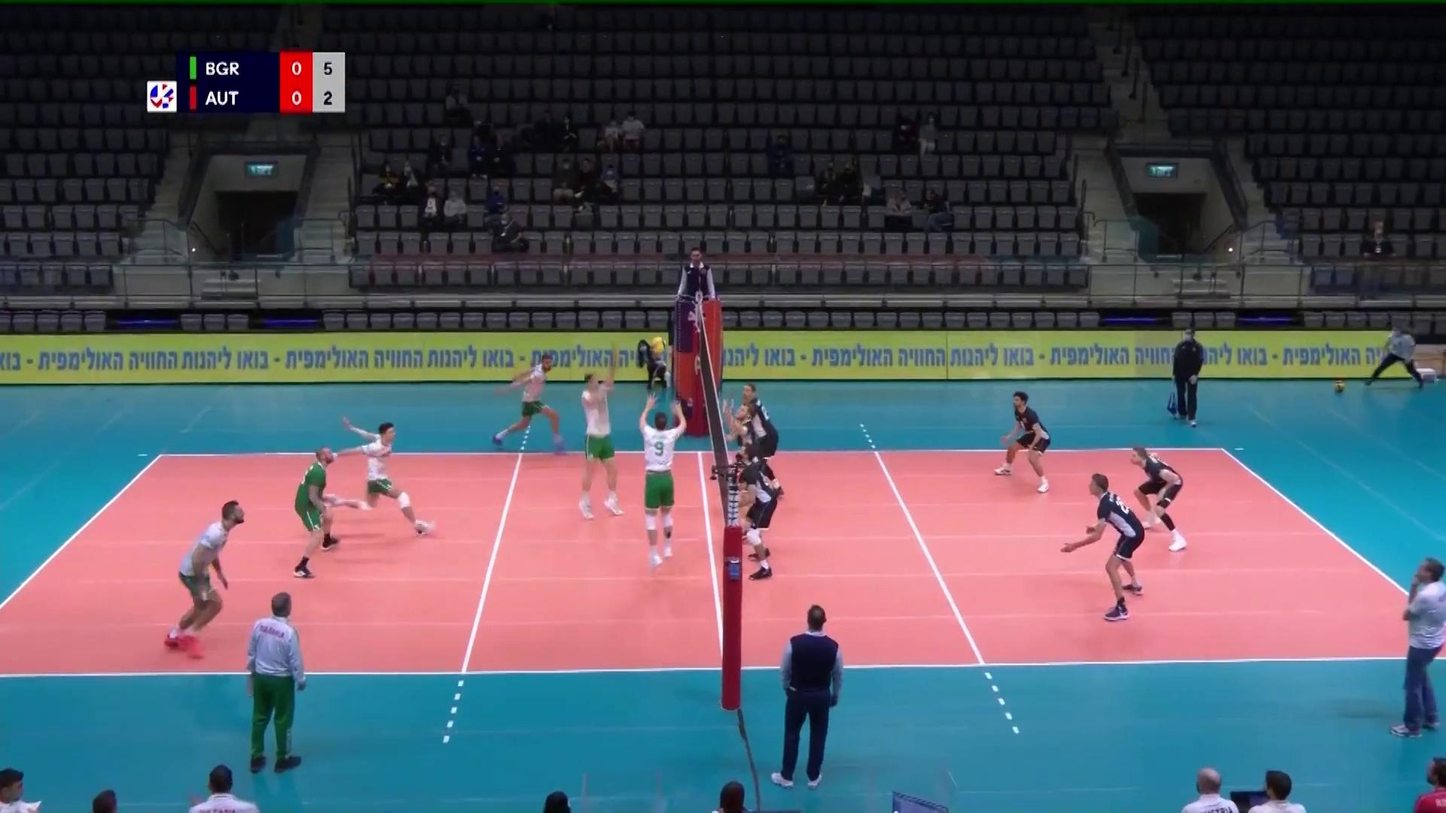ball: (651, 336, 666, 353)
